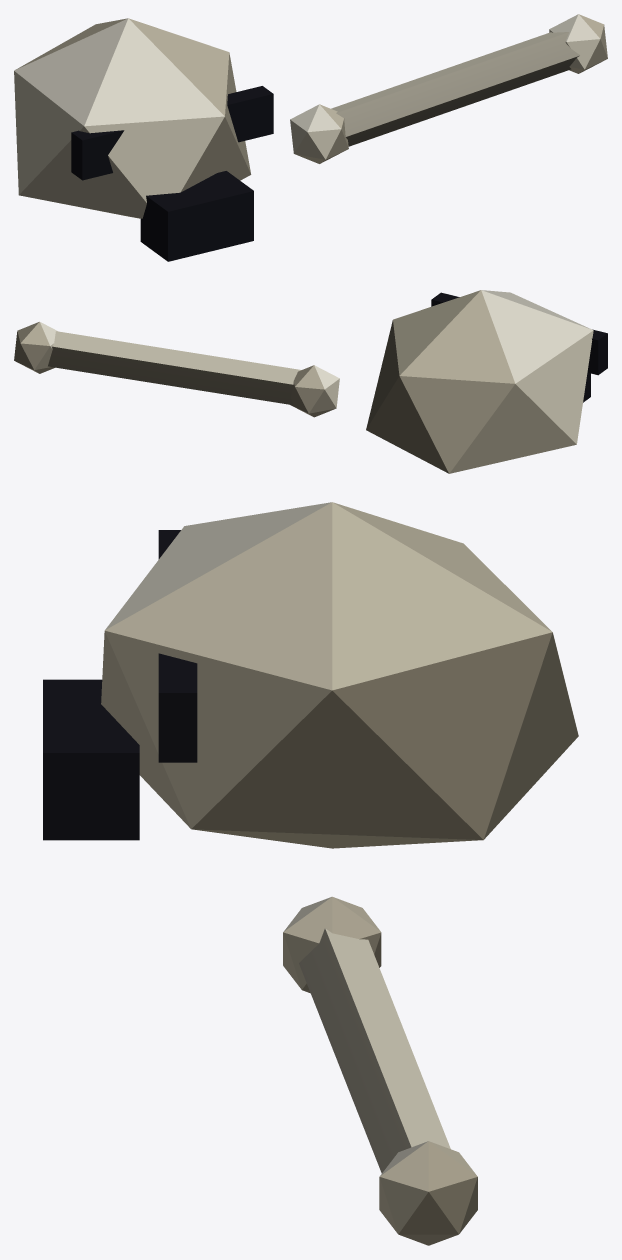
The model's file is bones.glb.
3 renders of one model, top to bottom at view 1: azimuth 30°, elevation 25°; view 2: azimuth 150°, elevation 25°; view 3: azimuth 270°, elevation 25°, orthographic. The views are drawn at different scales.
Visible parts, largest first — view 1: bones; view 2: bones; view 3: bones.
Boxes of the visible parts, x1,y1,x2,y2 form: bones: [14, 14, 607, 261]; bones: [14, 290, 607, 473]; bones: [43, 502, 578, 1245].
Bounding box in the file's own units: 0.6415 × 0.1983 × 0.2779.
